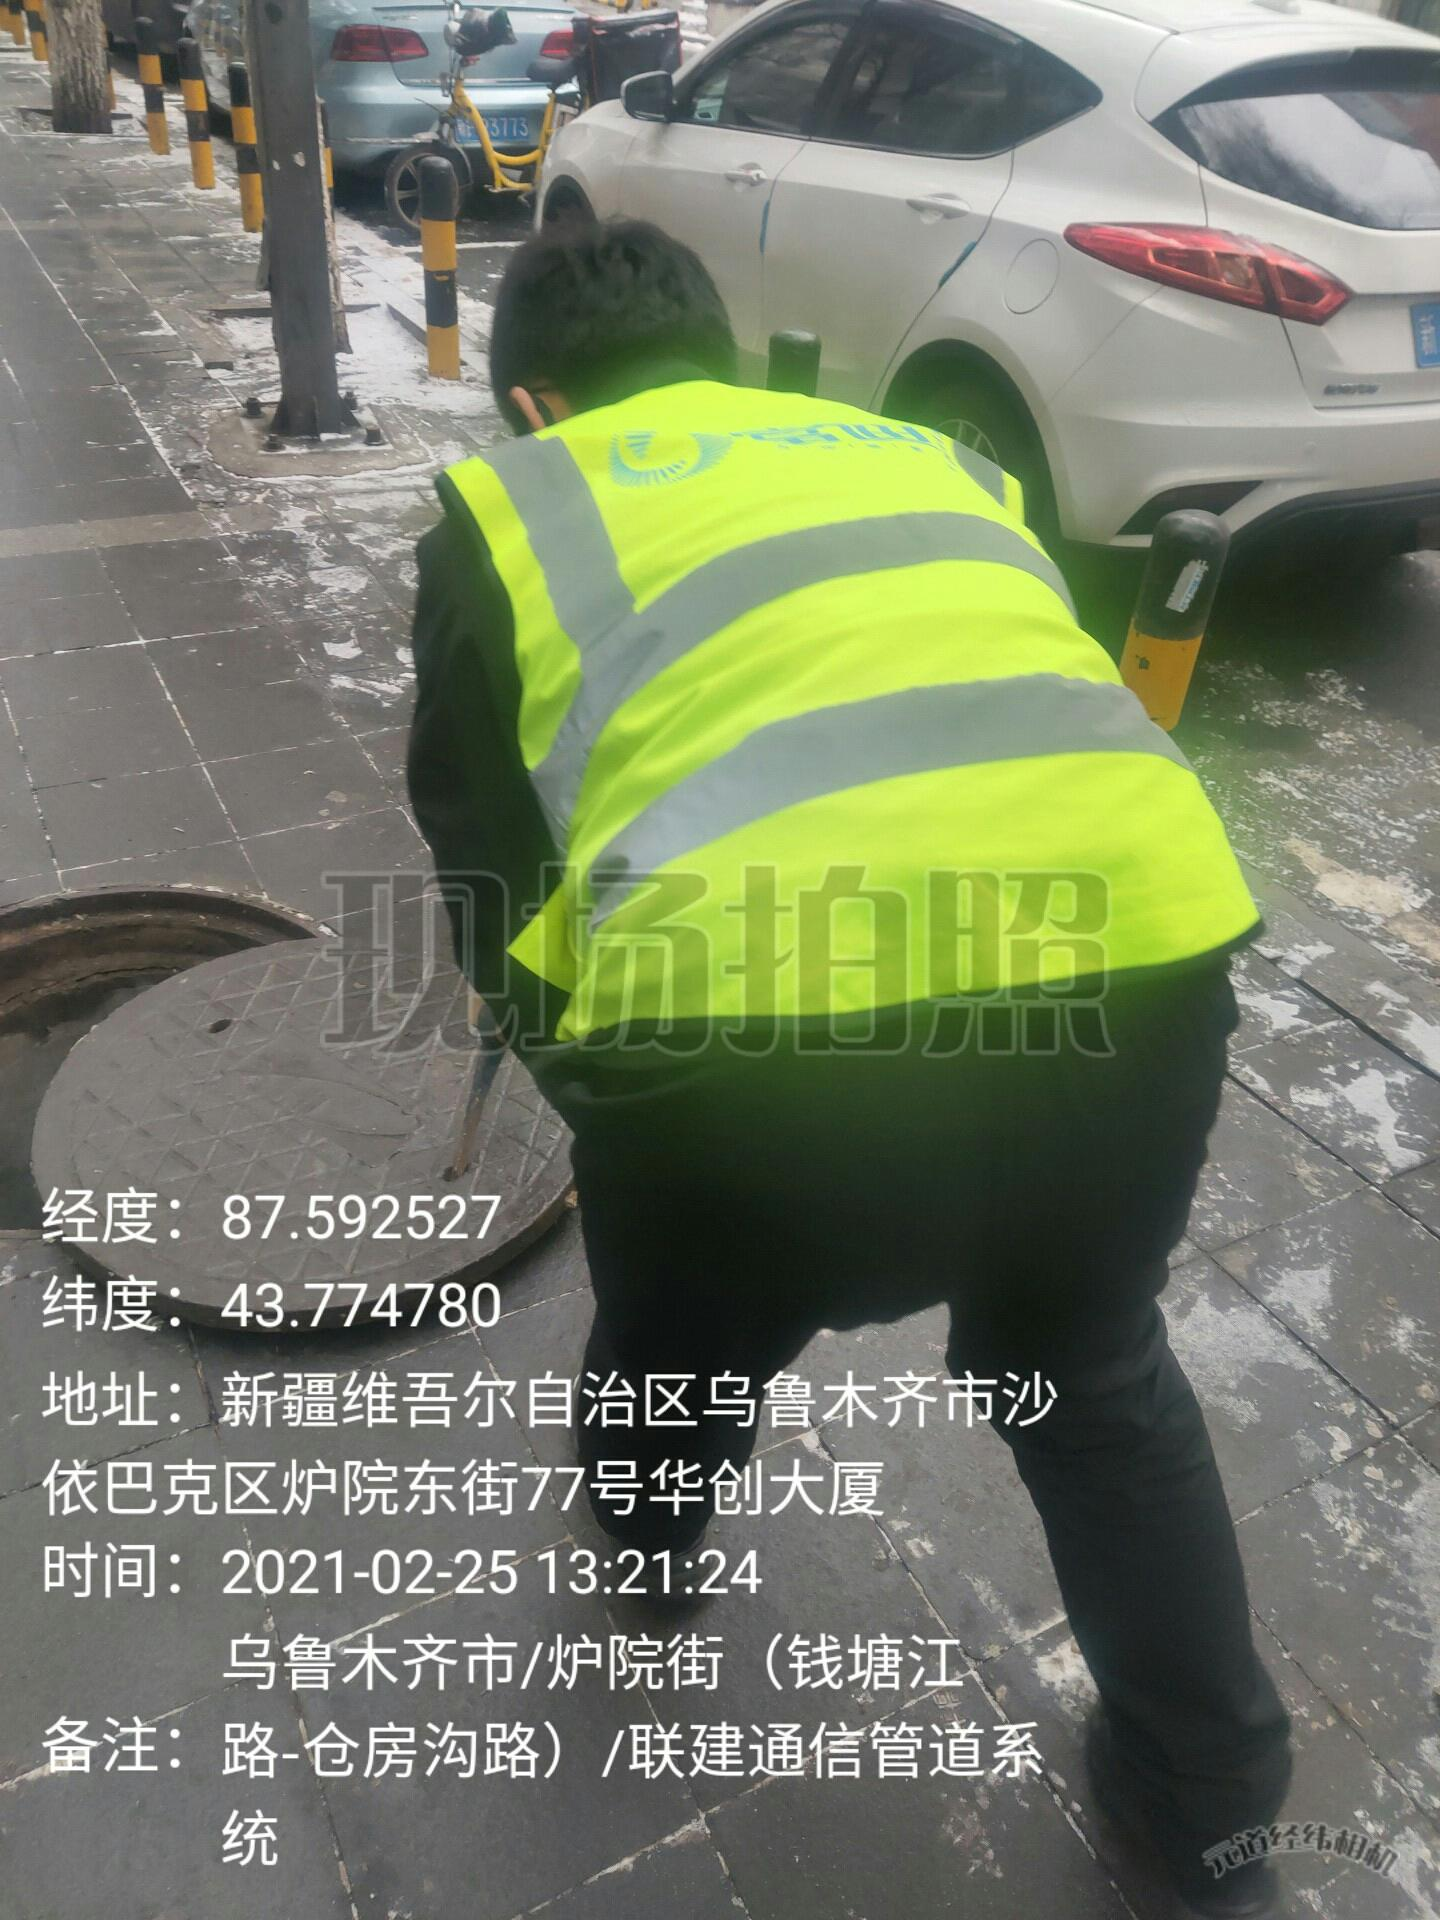wellcover: (35, 801, 646, 1320)
